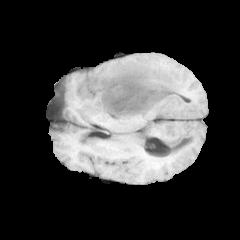glioma: (86, 56, 185, 119)
